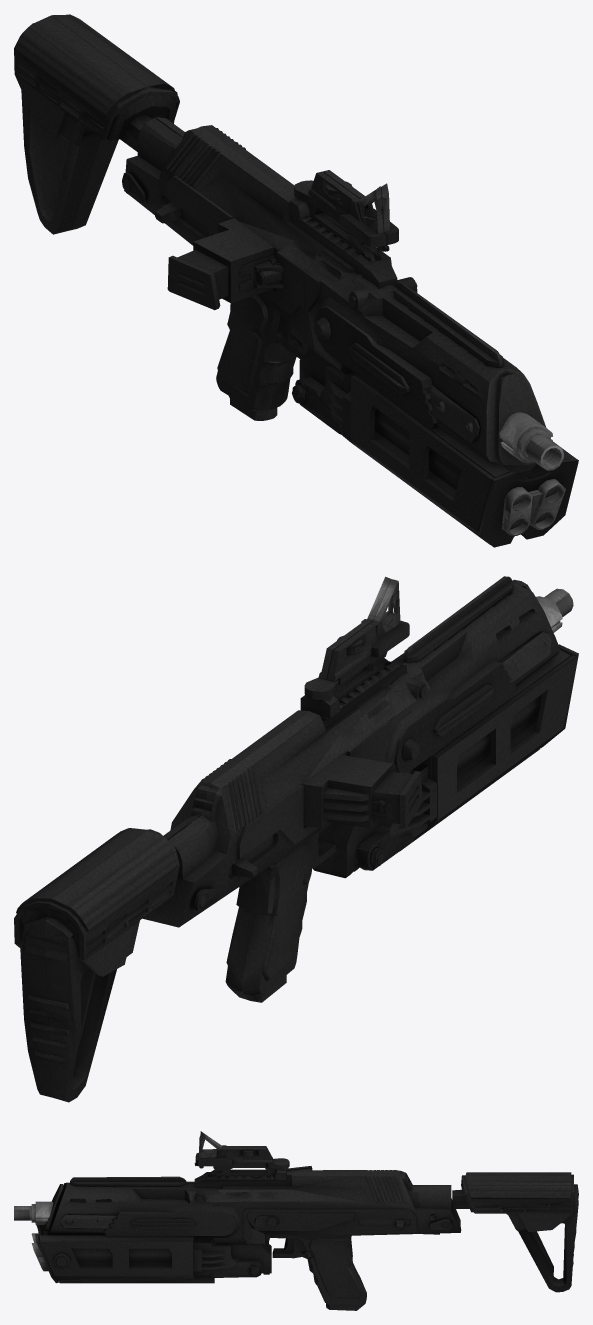
File: stw48.obj
3 views of the same model, one above another, from view 1: azimuth 30°, elevation 25°; view 2: azimuth 150°, elevation 25°; view 3: azimuth 270°, elevation 25° (orthographic). The views are drawn at different scales.
Parts seen in each view (by area): view 1: sith_weap_inf_stw48; view 2: sith_weap_inf_stw48; view 3: sith_weap_inf_stw48.
Boxes of the visible parts, bbox=[...] form: sith_weap_inf_stw48: bbox=[14, 14, 578, 547]; sith_weap_inf_stw48: bbox=[14, 576, 578, 1102]; sith_weap_inf_stw48: bbox=[14, 1131, 578, 1310].
Size of the model in its own units: 0.2162 by 0.3958 by 1.15.
